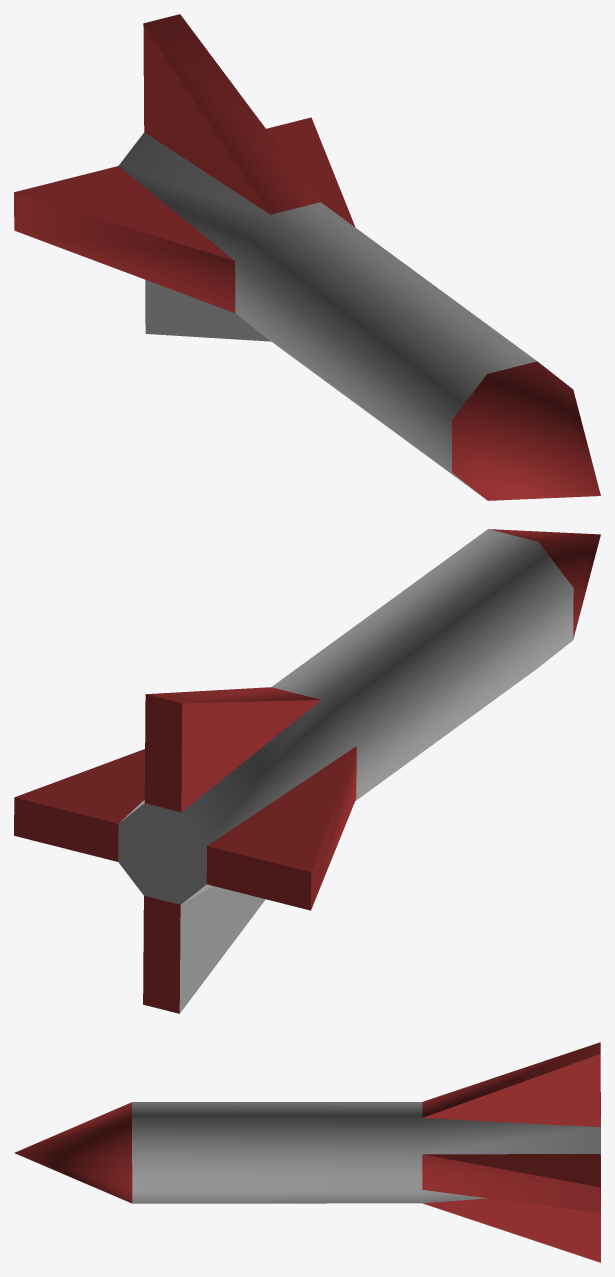
Rendered from Rocket.FBX.
3 renders of one model, top to bottom at view 1: azimuth 30°, elevation 25°; view 2: azimuth 150°, elevation 25°; view 3: azimuth 270°, elevation 25°, orthographic. The views are drawn at different scales.
Parts seen in each view (by area): view 1: Box001; view 2: Box001; view 3: Box001.
Part boxes in pixels (bbox=[...]): Box001: bbox=[14, 14, 600, 500]; Box001: bbox=[14, 529, 600, 1013]; Box001: bbox=[14, 1042, 600, 1262].
Bounding box in the file's own units: 28.56 × 28.56 × 72.89.
